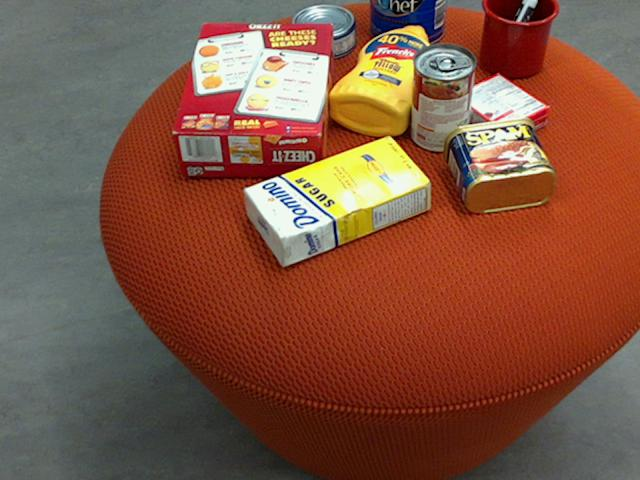cracker_box: (169, 21, 333, 177)
gelatin_box: (453, 74, 550, 146)
large_marker: (490, 0, 535, 68)
master_chef_can: (369, 0, 446, 46)
mug: (479, 0, 559, 76)
mustard_bottle: (327, 25, 436, 135)
potted_meat_can: (441, 116, 554, 212)
sugar_box: (242, 134, 432, 267)
tomato_soup_can: (411, 41, 474, 151)
tuna_fish_can: (289, 4, 355, 57)
